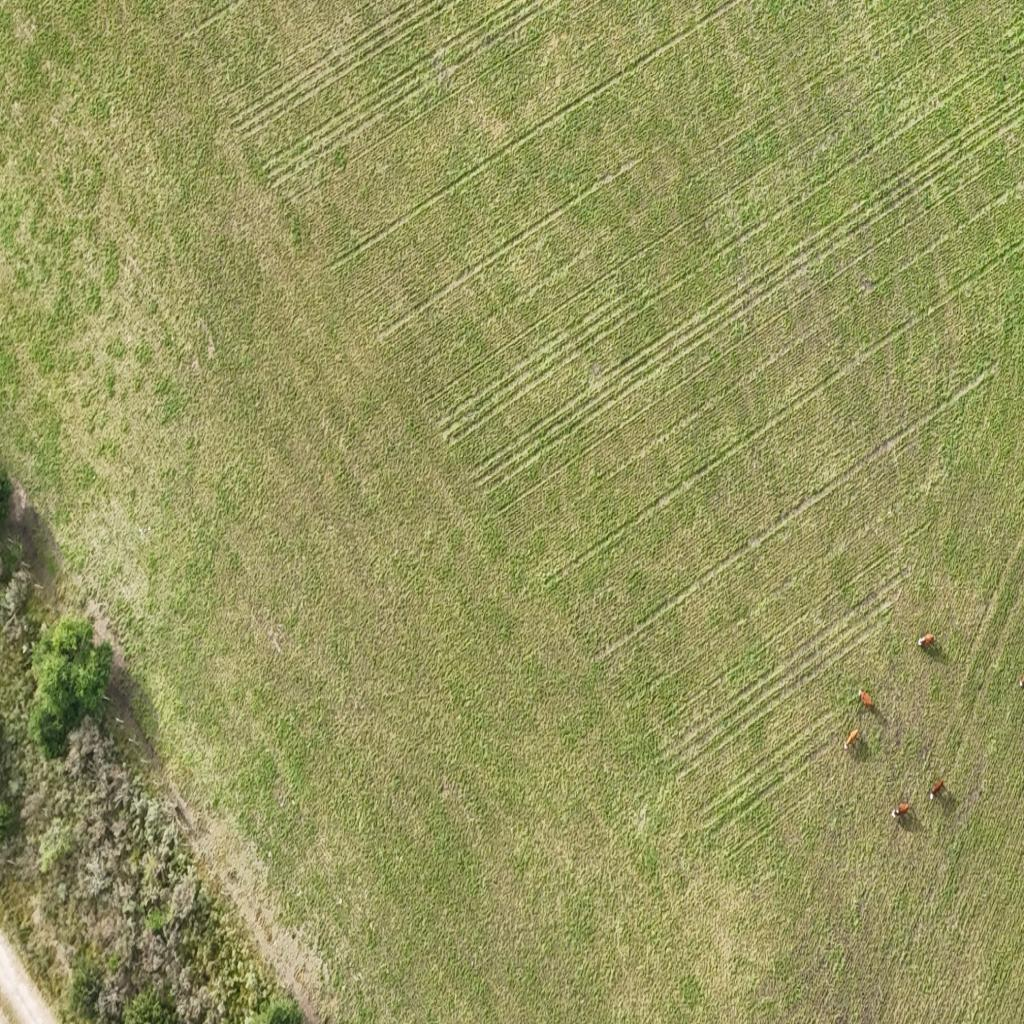cow: (844, 728, 860, 753), (891, 801, 909, 820), (858, 689, 874, 709), (929, 779, 944, 800), (918, 632, 936, 647)
